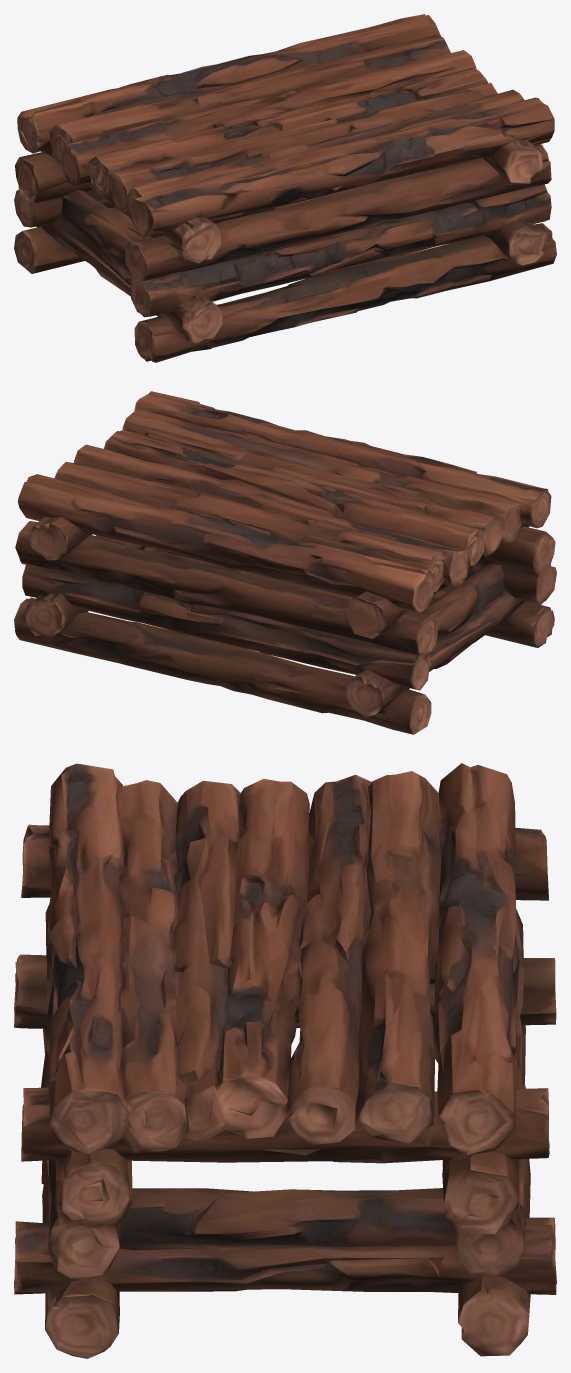
File: pyre_pile_koster_idle.glb
The picture shows the model from 3 angles, top to bottom: view 1: azimuth 30°, elevation 25°; view 2: azimuth 150°, elevation 25°; view 3: azimuth 270°, elevation 25°; orthographic projection. The views are drawn at different scales.
Parts seen in each view (by area): view 1: tripo_node_da40dbf2-c9fb-4d58-892a-de7ebe769a9e; view 2: tripo_node_da40dbf2-c9fb-4d58-892a-de7ebe769a9e; view 3: tripo_node_da40dbf2-c9fb-4d58-892a-de7ebe769a9e.
Part boxes in pixels (bbox=[...]): tripo_node_da40dbf2-c9fb-4d58-892a-de7ebe769a9e: bbox=[14, 14, 556, 362]; tripo_node_da40dbf2-c9fb-4d58-892a-de7ebe769a9e: bbox=[14, 391, 556, 734]; tripo_node_da40dbf2-c9fb-4d58-892a-de7ebe769a9e: bbox=[14, 763, 556, 1358].
Bounding box in the file's own units: 1.5 × 0.5706 × 1.03.
Materials: 1 (1 with a texture image).
